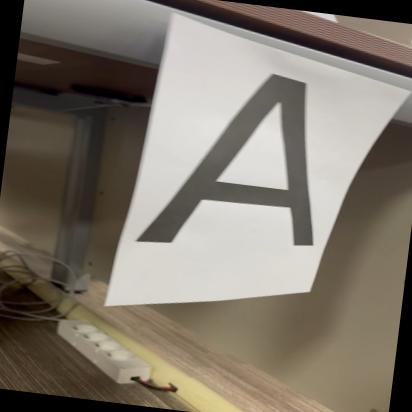seat: (142, 55, 343, 263)
